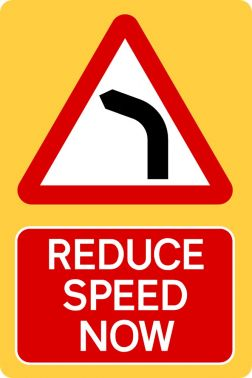Bend_to_left: (15, 14, 234, 207)
